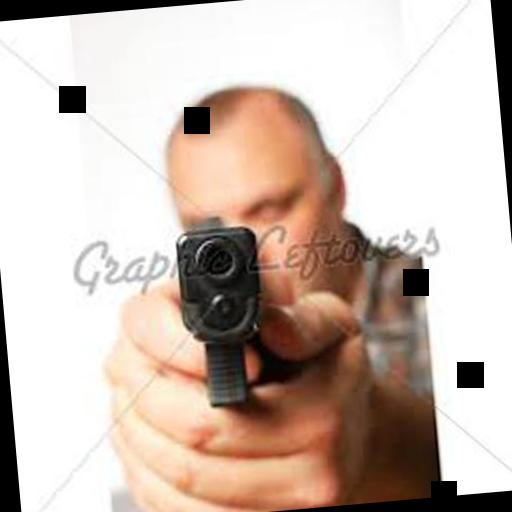Handgun: (165, 206, 275, 415)
